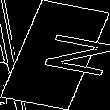N_W: (10, 29, 100, 81)
